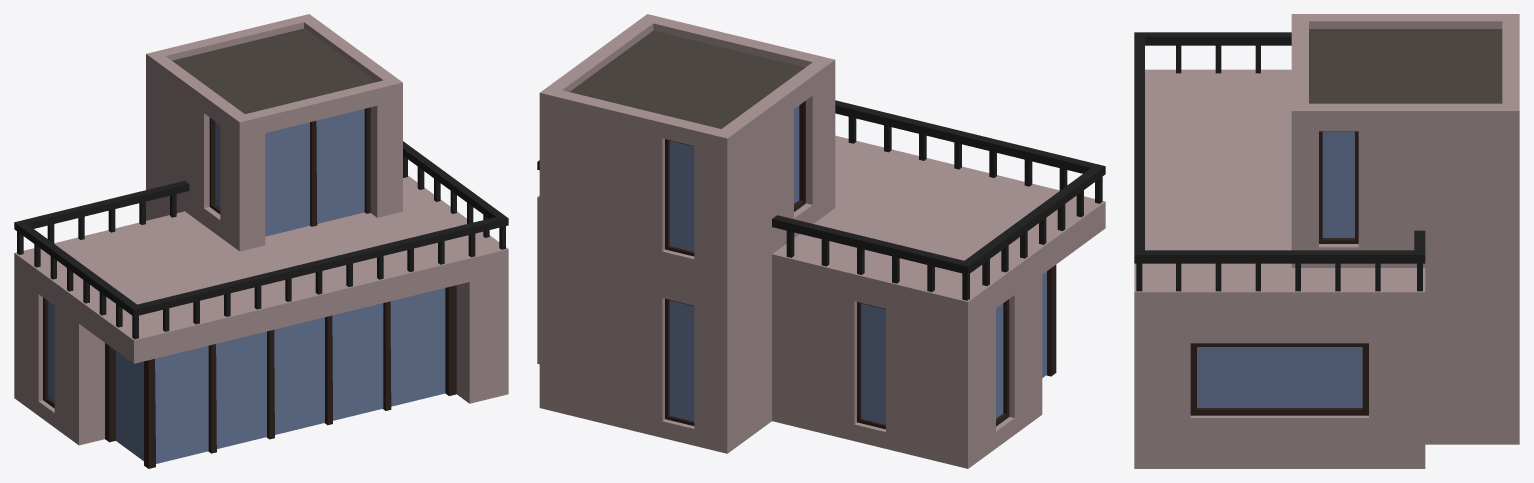
The model's file is ModernHouse_04.fbx.
The picture shows the model from 3 angles, left to right: view 1: azimuth 30°, elevation 25°; view 2: azimuth 150°, elevation 25°; view 3: azimuth 270°, elevation 25°; orthographic projection. The views are drawn at different scales.
Visible parts, largest first — view 1: ModernHouse_04; view 2: ModernHouse_04; view 3: ModernHouse_04.
Boxes of the visible parts, x1,y1,x2,y2 form: ModernHouse_04: [14, 14, 508, 468]; ModernHouse_04: [537, 14, 1105, 468]; ModernHouse_04: [1134, 14, 1519, 468].
Bounding box in the file's own units: 9.85 × 6.91 × 7.21.
